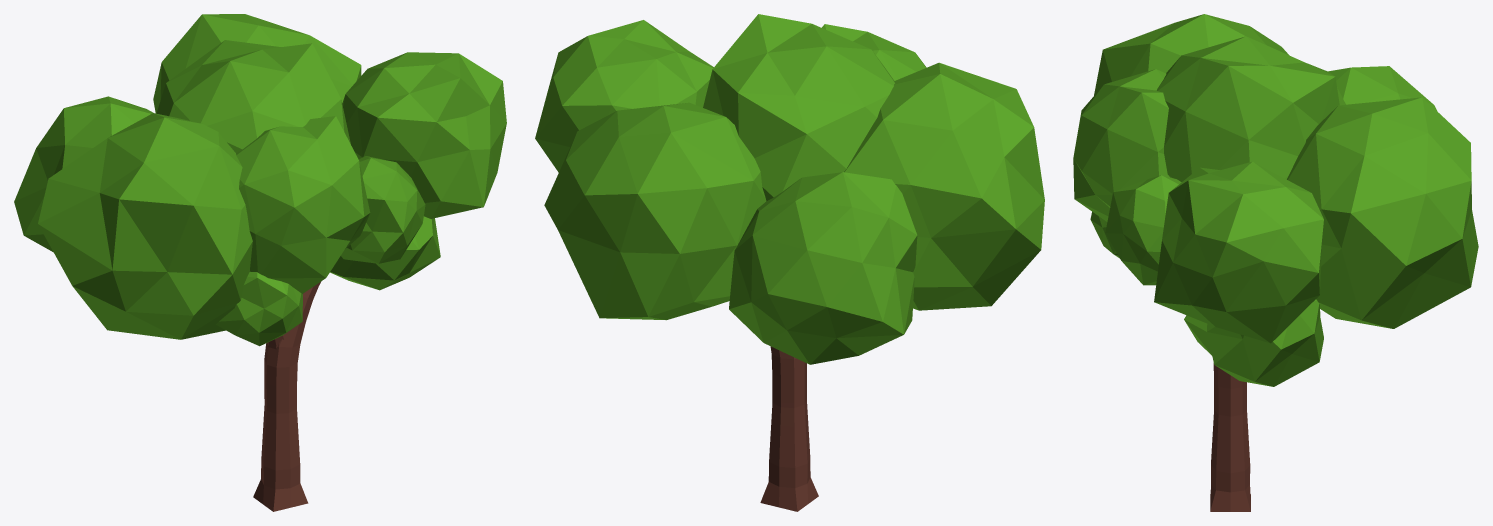
File: Tree.fbx
The picture shows the model from 3 angles, left to right: view 1: azimuth 30°, elevation 25°; view 2: azimuth 150°, elevation 25°; view 3: azimuth 270°, elevation 25°; orthographic projection. The views are drawn at different scales.
Parts seen in each view (by area): view 1: Icosphere.003, Icosphere, Icosphere.006, Icosphere.008, Plane.001, Icosphere.001, Icosphere.002, Icosphere.007, Icosphere.004, Icosphere.005; view 2: Icosphere.002, Icosphere.003, Icosphere.001, Icosphere.008, Icosphere, Plane.001, Icosphere.006; view 3: Icosphere.002, Icosphere, Icosphere.008, Icosphere.006, Icosphere.005, Icosphere.003, Plane.001, Icosphere.007, Icosphere.001.
Part boxes in pixels (x1=…): Icosphere.003: x1=38, y1=113, x2=252, y2=339; Icosphere: x1=342, y1=52, x2=506, y2=218; Icosphere.006: x1=236, y1=116, x2=370, y2=293; Icosphere.008: x1=156, y1=40, x2=350, y2=153; Plane.001: x1=253, y1=281, x2=321, y2=511; Icosphere.001: x1=14, y1=96, x2=153, y2=252; Icosphere.002: x1=153, y1=14, x2=361, y2=113; Icosphere.007: x1=341, y1=156, x2=425, y2=263; Icosphere.004: x1=216, y1=271, x2=302, y2=346; Icosphere.005: x1=330, y1=216, x2=440, y2=290; Icosphere.002: x1=544, y1=102, x2=766, y2=320; Icosphere.003: x1=844, y1=62, x2=1044, y2=310; Icosphere.001: x1=729, y1=172, x2=917, y2=364; Icosphere.008: x1=703, y1=14, x2=894, y2=201; Icosphere: x1=535, y1=20, x2=713, y2=172; Plane.001: x1=760, y1=346, x2=818, y2=511; Icosphere.006: x1=822, y1=24, x2=926, y2=80; Icosphere.002: x1=1287, y1=97, x2=1478, y2=328; Icosphere: x1=1154, y1=161, x2=1323, y2=343; Icosphere.008: x1=1156, y1=36, x2=1345, y2=181; Icosphere.006: x1=1073, y1=69, x2=1169, y2=221; Icosphere.005: x1=1184, y1=299, x2=1323, y2=386; Icosphere.003: x1=1094, y1=14, x2=1289, y2=95; Plane.001: x1=1210, y1=363, x2=1250, y2=511; Icosphere.007: x1=1105, y1=175, x2=1181, y2=285; Icosphere.001: x1=1328, y1=66, x2=1437, y2=111.
Bounding box in the file's own units: 1101 × 1056 × 857.
2 materials, 1 textured.
